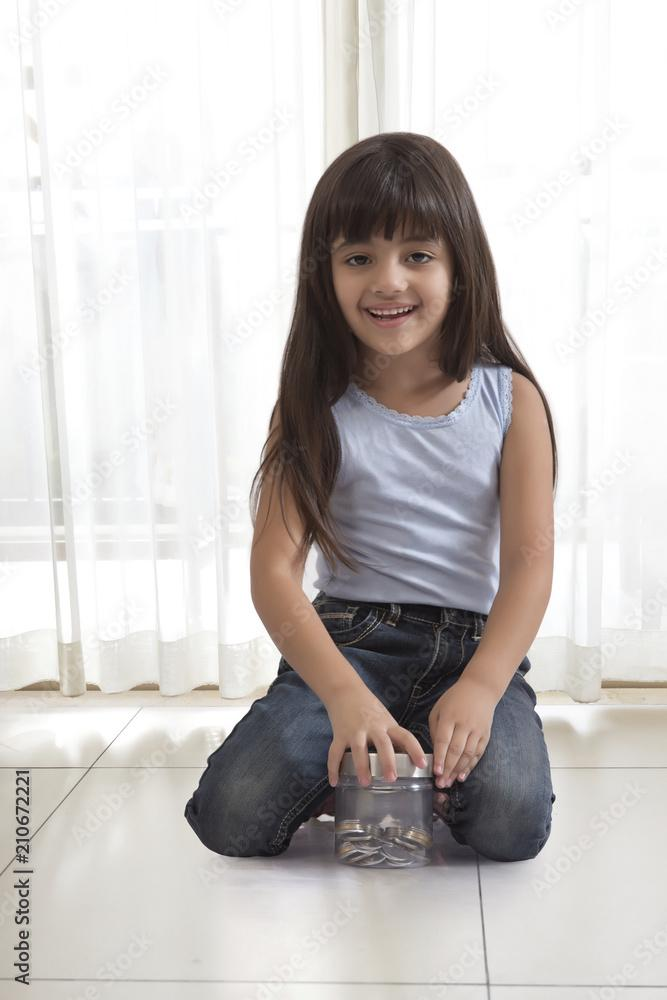Human: (174, 118, 606, 896)
